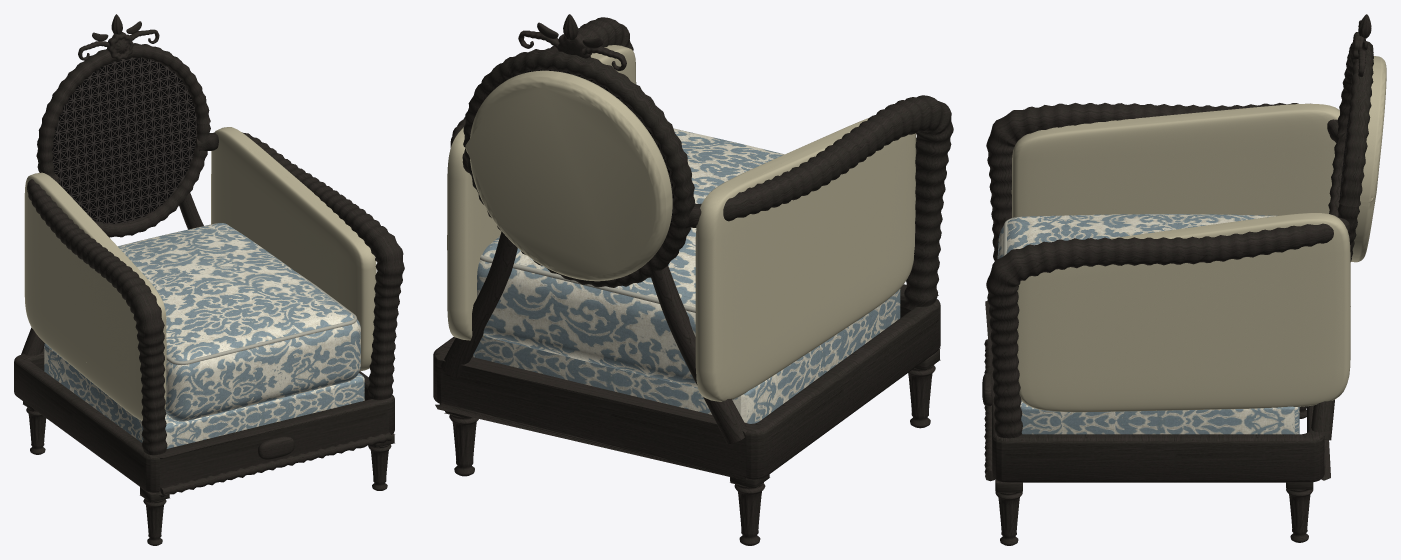
3 renders of one model, left to right at view 1: azimuth 30°, elevation 25°; view 2: azimuth 150°, elevation 25°; view 3: azimuth 270°, elevation 25°, orthographic. The views are drawn at different scales.
Size of the model in its own units: 0.7433 by 1.05 by 0.8278.
6 materials, 6 textured.
